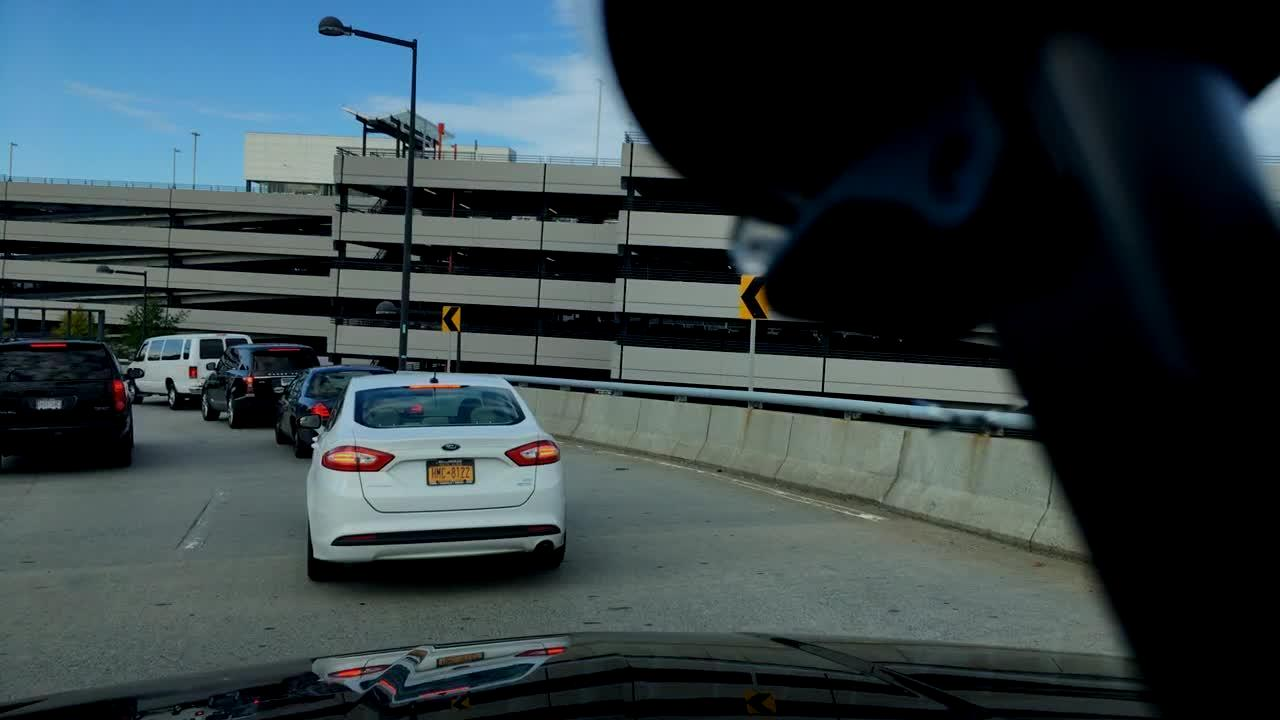ford: (430, 435, 470, 455)
range rover: (261, 369, 313, 376)
